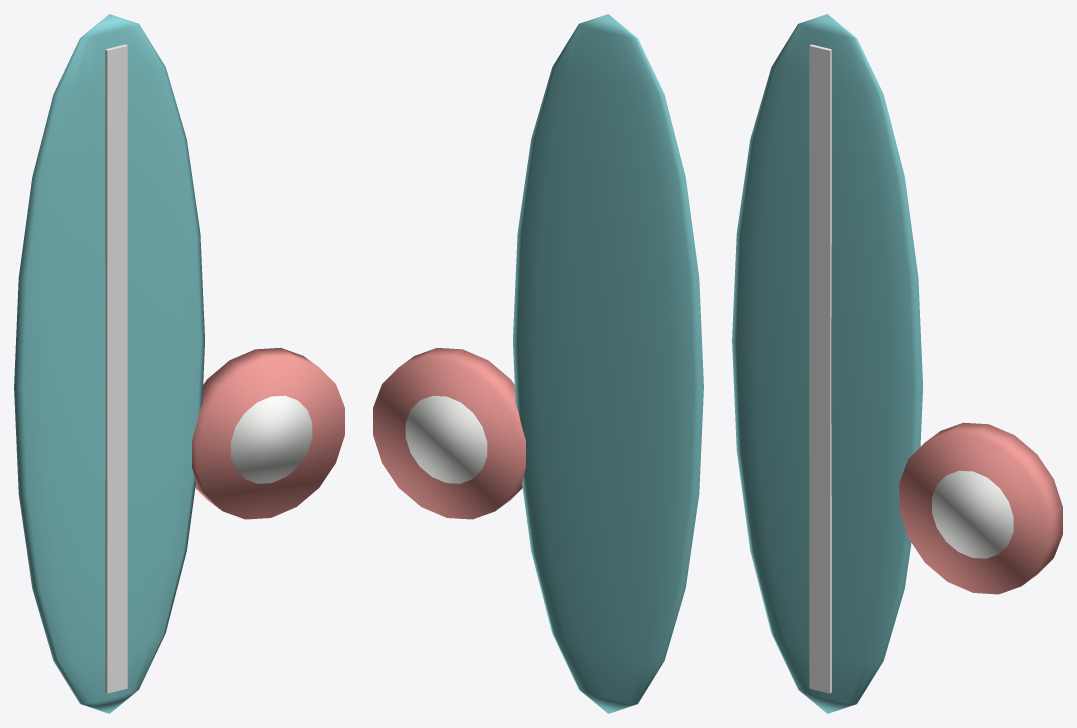
The model's file is prancha_surf.glb.
3 views of the same model, side by side, from view 1: azimuth 30°, elevation 25°; view 2: azimuth 150°, elevation 25°; view 3: azimuth 330°, elevation 25° (orthographic).
Visible parts, largest first — view 1: prancha_surf; view 2: prancha_surf; view 3: prancha_surf.
Part boxes in pixels (x1,y1,x2,y2): prancha_surf: (14,14,344,713); prancha_surf: (373,14,703,713); prancha_surf: (732,14,1062,713).
Size of the model in its own units: 0.9467 by 1.96 by 0.09.
